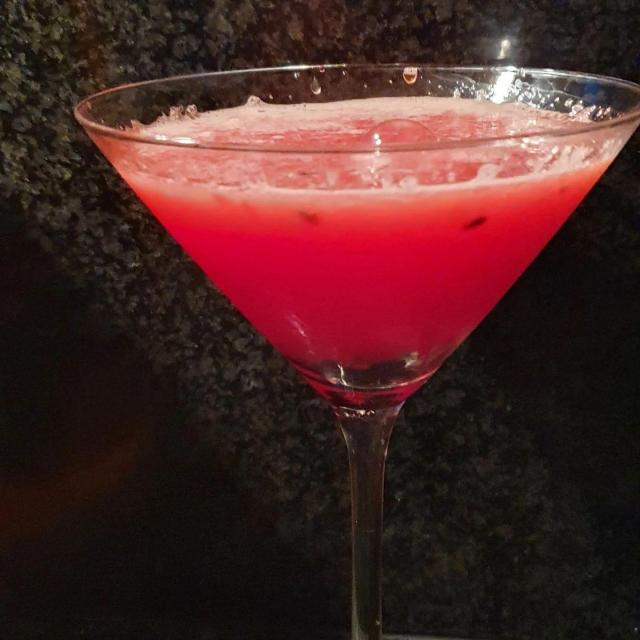glass-wine: (69, 52, 640, 640)
